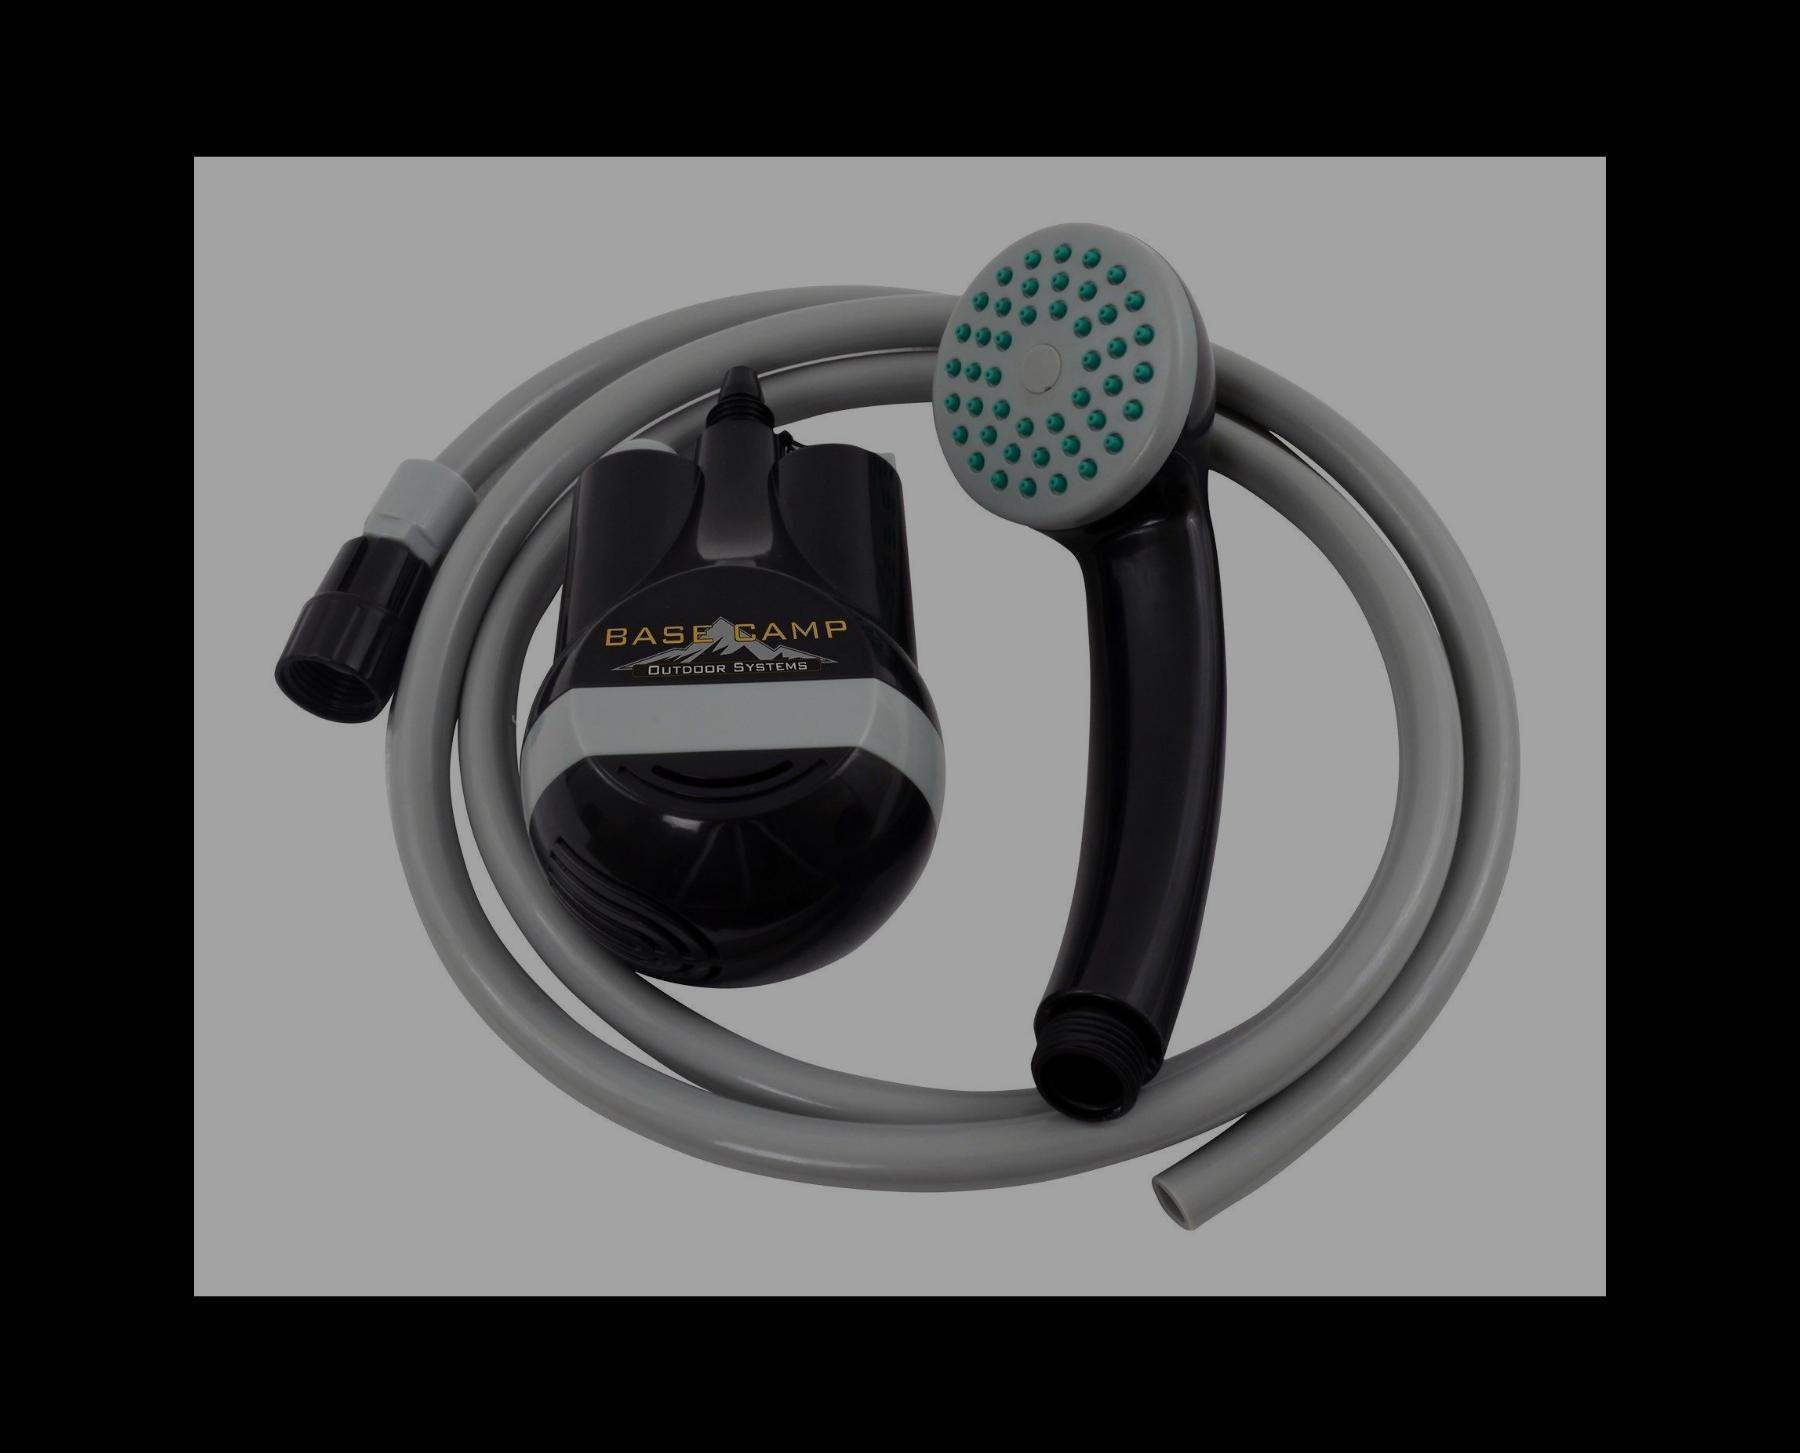Ducha: (242, 179, 1538, 1234)
